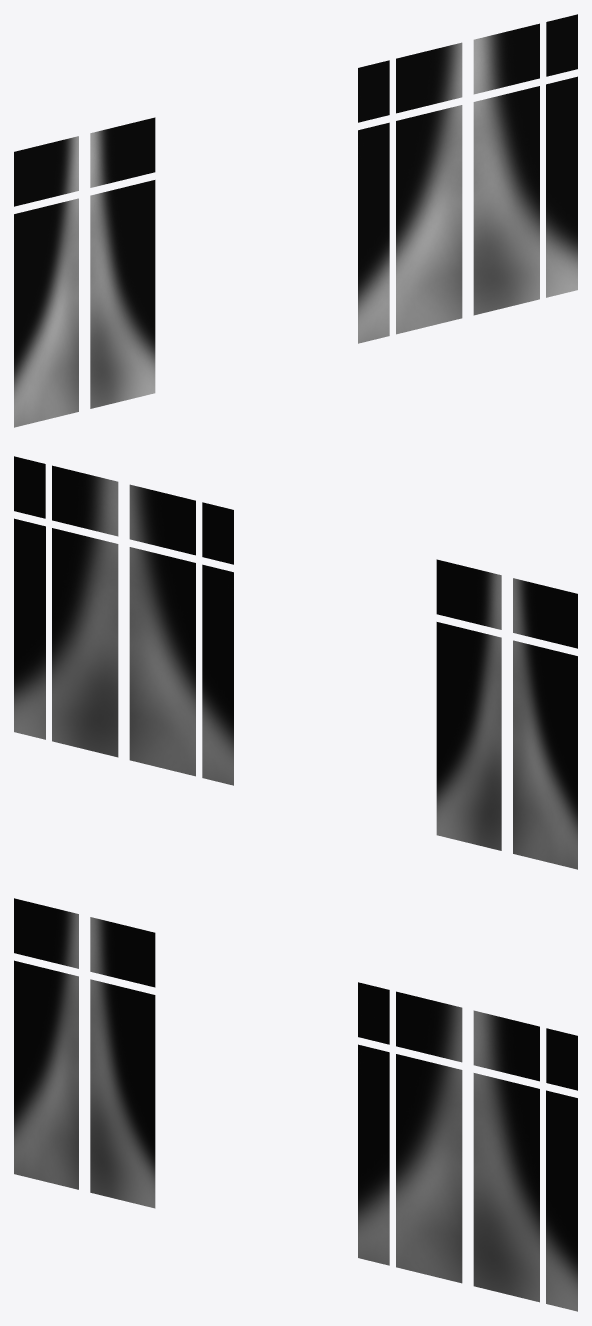
File: ENV_Windows_02_Batiment_01.fbx
3 renders of one model, top to bottom at view 1: azimuth 30°, elevation 25°; view 2: azimuth 150°, elevation 25°; view 3: azimuth 330°, elevation 25°, orthographic.
Parts seen in each view (by area): view 1: ENV_Batiment_02.002; view 2: ENV_Batiment_02.002; view 3: ENV_Batiment_02.002.
Part boxes in pixels (x1,y1,x2,y2): ENV_Batiment_02.002: (14,14,577,427); ENV_Batiment_02.002: (14,456,577,869); ENV_Batiment_02.002: (14,898,577,1311).
Bounding box in the file's own units: 522 × 244 × 3.97e-05.
